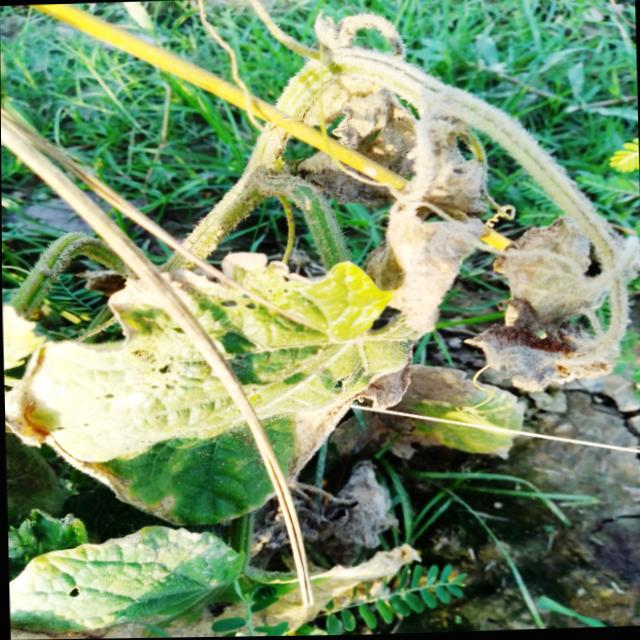Bacterial-Wilt: (489, 220, 616, 338), (463, 322, 613, 394)
